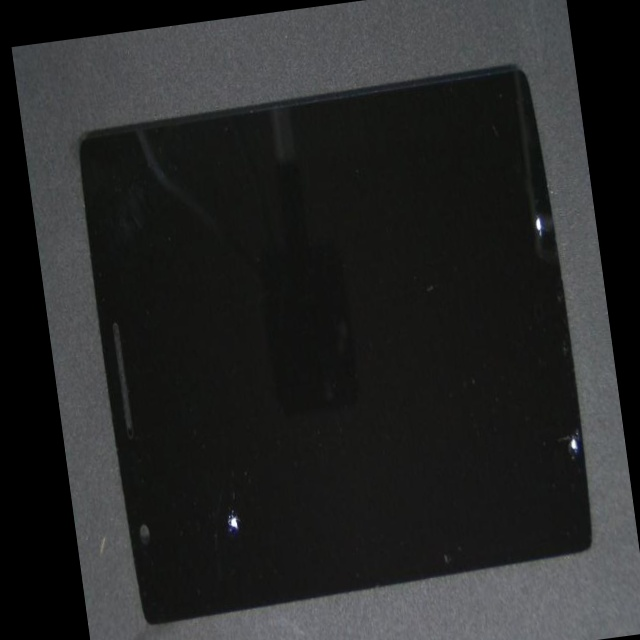stain: (296, 187, 640, 640), (266, 41, 608, 350), (129, 227, 333, 640)
